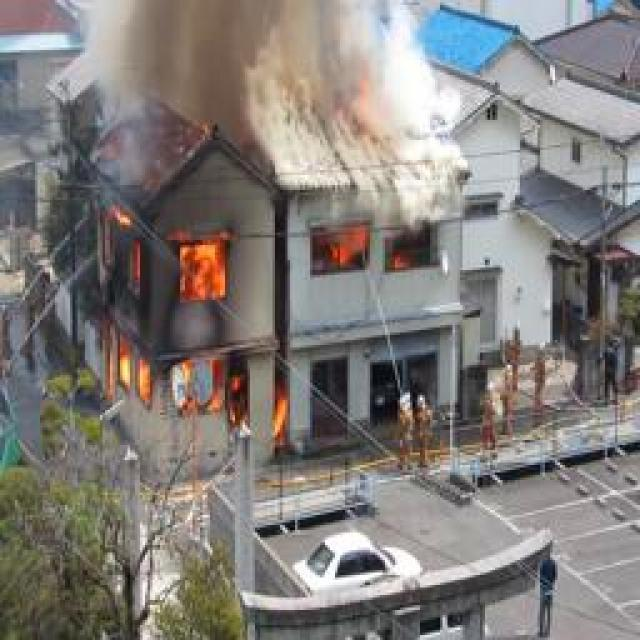Fire: (78, 188, 294, 452), (318, 217, 444, 275)
